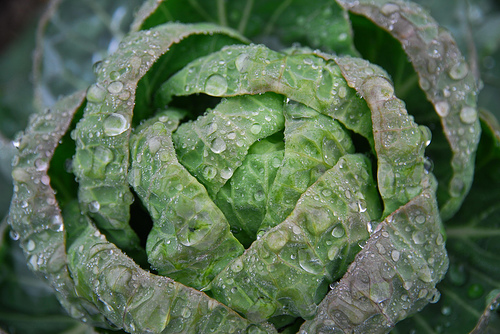cabbage: (1, 1, 499, 332)
